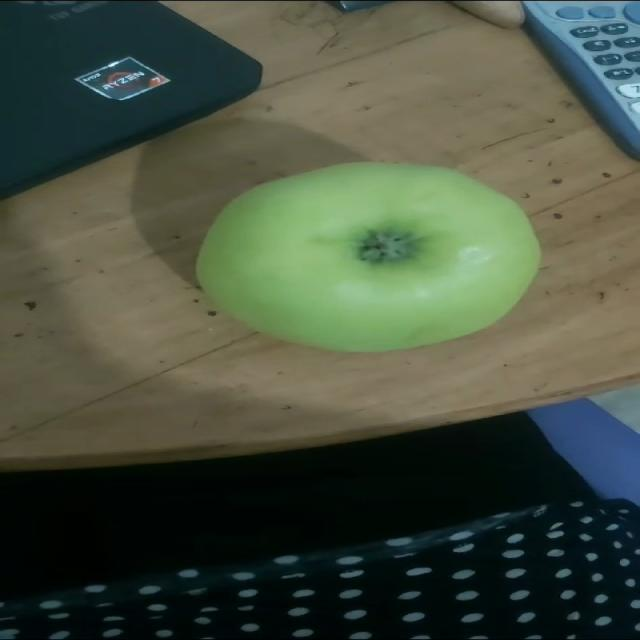50-_ripeness: (196, 161, 541, 352)
